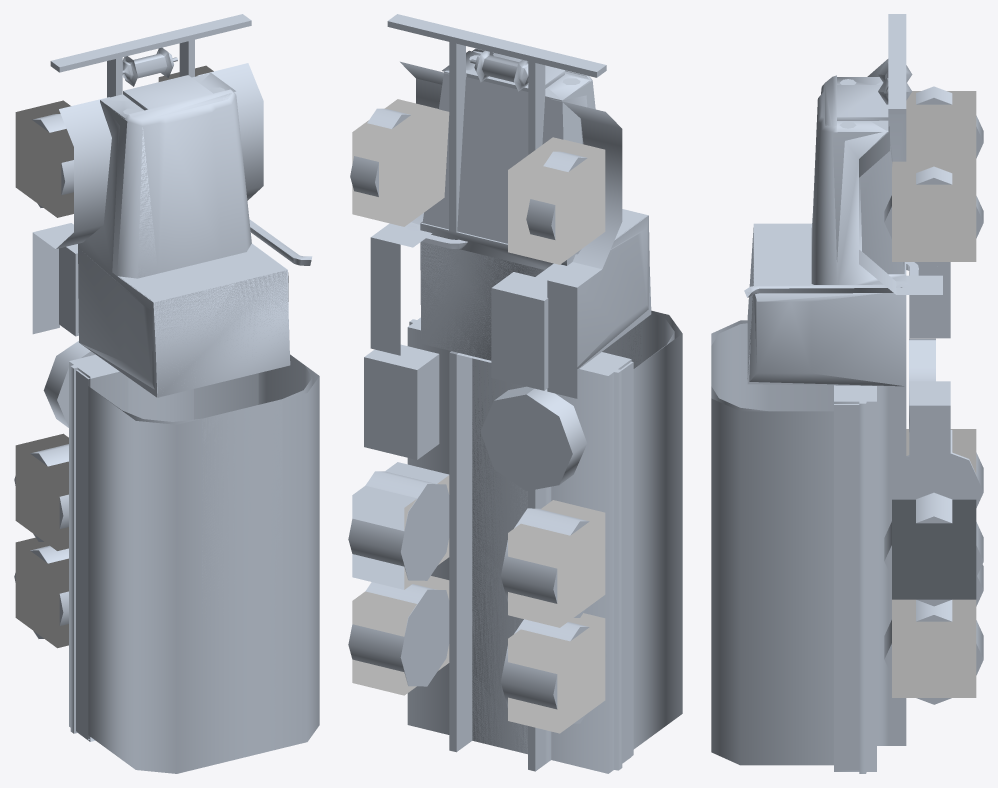
The picture shows the model from 3 angles, left to right: view 1: azimuth 30°, elevation 25°; view 2: azimuth 150°, elevation 25°; view 3: azimuth 270°, elevation 25°; orthographic projection. The views are drawn at different scales.
Parts seen in each view (by area): view 1: db_duce_newLOD_LOD child0_o2596_p14543_Geometry_0.001, db_duce_newLOD_LOD child0_hood_p13895_Geometry_0.001, db_duce_newLOD_LOD child0_newcab_p13814_Geometry_0.001, db_duce_newLOD_LOD child0_tire3_p14590_Geometry_0.001, db_duce_newLOD_LOD child0_fenders_p13792_Geometry_0.001, db_duce_newLOD_LOD child0_bed_p13853_Geometry_0.001, db_duce_newLOD_LOD child0_cover_p13868_Geometry_0.001, db_duce_newLOD_LOD child0_newcab2_p14159_Geometry_0.001, db_duce_newLOD_LOD child0_alltire_p13640_Geometry_0.001, db_duce_newLOD_LOD child0_frame_p13676_Geometry_0.001, db_duce_newLOD_LOD child0_o2595_p14528_Geometry_0.001, db_duce_newLOD_LOD child0_glass2_p14262_Geometry_0.001 (+9 smaller); view 2: db_duce_newLOD_LOD child0_tire3_p14590_Geometry_0.001, db_duce_newLOD_LOD child0_alltire_p13640_Geometry_0.001, db_duce_newLOD_LOD child0_o2595_p14528_Geometry_0.001, db_duce_newLOD_LOD child0_bed_p13853_Geometry_0.001, db_duce_newLOD_LOD child0_o2596_p14543_Geometry_0.001, db_duce_newLOD_LOD child0_frame_p13676_Geometry_0.001, db_duce_newLOD_LOD child0_gtanks_p13802_Geometry_0.001, db_duce_newLOD_LOD child0_fenders_p13792_Geometry_0.001, db_duce_newLOD_LOD child0_newcab_p13814_Geometry_0.001, db_duce_newLOD_LOD child0_o2598_p14553_Geometry_0.001, db_duce_newLOD_LOD child0_newcab2_p14159_Geometry_0.001, db_duce_newLOD_LOD child0_tire3_p14591_Geometry_0.001 (+5 smaller); view 3: db_duce_newLOD_LOD child0_o2596_p14543_Geometry_0.001, db_duce_newLOD_LOD child0_tire3_p14590_Geometry_0.001, db_duce_newLOD_LOD child0_bed_p13853_Geometry_0.001, db_duce_newLOD_LOD child0_newcab_p13814_Geometry_0.001, db_duce_newLOD_LOD child0_frame_p13676_Geometry_0.001, db_duce_newLOD_LOD child0_alltire_p13640_Geometry_0.001, db_duce_newLOD_LOD child0_tire3_p14591_Geometry_0.001, db_duce_newLOD_LOD child0_gtanks_p13802_Geometry_0.001, db_duce_newLOD_LOD child0_cover_p13868_Geometry_0.001, db_duce_newLOD_LOD child0_o2595_p14528_Geometry_0.001, db_duce_newLOD_LOD child0_o2598_p14553_Geometry_0.001, db_duce_newLOD_LOD child0_hood_p13895_Geometry_0.001 (+9 smaller).
Boxes of the visible parts, box(x1,y1,x2,y2) form: db_duce_newLOD_LOD child0_o2596_p14543_Geometry_0.001: box(88, 354, 319, 773); db_duce_newLOD_LOD child0_hood_p13895_Geometry_0.001: box(113, 89, 251, 278); db_duce_newLOD_LOD child0_newcab_p13814_Geometry_0.001: box(78, 243, 289, 397); db_duce_newLOD_LOD child0_tire3_p14590_Geometry_0.001: box(15, 65, 213, 648); db_duce_newLOD_LOD child0_fenders_p13792_Geometry_0.001: box(32, 63, 263, 334); db_duce_newLOD_LOD child0_bed_p13853_Geometry_0.001: box(70, 356, 258, 740); db_duce_newLOD_LOD child0_cover_p13868_Geometry_0.001: box(94, 355, 312, 756); db_duce_newLOD_LOD child0_newcab2_p14159_Geometry_0.001: box(81, 244, 290, 397); db_duce_newLOD_LOD child0_alltire_p13640_Geometry_0.001: box(14, 114, 95, 638); db_duce_newLOD_LOD child0_frame_p13676_Geometry_0.001: box(50, 14, 251, 97); db_duce_newLOD_LOD child0_o2595_p14528_Geometry_0.001: box(69, 354, 265, 741); db_duce_newLOD_LOD child0_glass2_p14262_Geometry_0.001: box(128, 250, 284, 300); db_duce_newLOD_LOD child0_tire3_p14590_Geometry_0.001: box(352, 99, 605, 733); db_duce_newLOD_LOD child0_alltire_p13640_Geometry_0.001: box(348, 108, 606, 723); db_duce_newLOD_LOD child0_o2595_p14528_Geometry_0.001: box(407, 317, 631, 773); db_duce_newLOD_LOD child0_bed_p13853_Geometry_0.001: box(409, 319, 633, 770); db_duce_newLOD_LOD child0_o2596_p14543_Geometry_0.001: box(607, 310, 682, 749); db_duce_newLOD_LOD child0_frame_p13676_Geometry_0.001: box(387, 14, 606, 771); db_duce_newLOD_LOD child0_gtanks_p13802_Geometry_0.001: box(364, 272, 548, 459); db_duce_newLOD_LOD child0_fenders_p13792_Geometry_0.001: box(370, 61, 622, 398); db_duce_newLOD_LOD child0_newcab_p13814_Geometry_0.001: box(420, 215, 649, 368); db_duce_newLOD_LOD child0_o2598_p14553_Geometry_0.001: box(422, 51, 595, 243); db_duce_newLOD_LOD child0_newcab2_p14159_Geometry_0.001: box(421, 220, 650, 369); db_duce_newLOD_LOD child0_tire3_p14591_Geometry_0.001: box(352, 462, 448, 589); db_duce_newLOD_LOD child0_o2596_p14543_Geometry_0.001: box(711, 320, 833, 765); db_duce_newLOD_LOD child0_tire3_p14590_Geometry_0.001: box(892, 91, 976, 697); db_duce_newLOD_LOD child0_bed_p13853_Geometry_0.001: box(834, 388, 866, 773); db_duce_newLOD_LOD child0_newcab_p13814_Geometry_0.001: box(747, 223, 906, 386); db_duce_newLOD_LOD child0_frame_p13676_Geometry_0.001: box(877, 14, 906, 745); db_duce_newLOD_LOD child0_alltire_p13640_Geometry_0.001: box(884, 86, 983, 704); db_duce_newLOD_LOD child0_tire3_p14591_Geometry_0.001: box(892, 499, 976, 599); db_duce_newLOD_LOD child0_gtanks_p13802_Geometry_0.001: box(909, 262, 950, 489); db_duce_newLOD_LOD child0_cover_p13868_Geometry_0.001: box(711, 323, 833, 411); db_duce_newLOD_LOD child0_o2595_p14528_Geometry_0.001: box(834, 385, 876, 771); db_duce_newLOD_LOD child0_o2598_p14553_Geometry_0.001: box(830, 81, 904, 274); db_duce_newLOD_LOD child0_hood_p13895_Geometry_0.001: box(811, 75, 836, 284).
Size of the model in its own units: 2.04 by 6.65 by 2.47.
